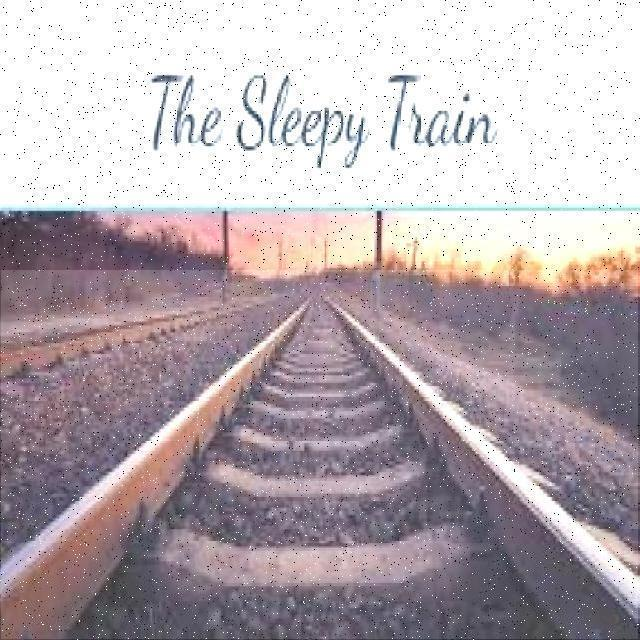rail: (3, 272, 639, 640)
